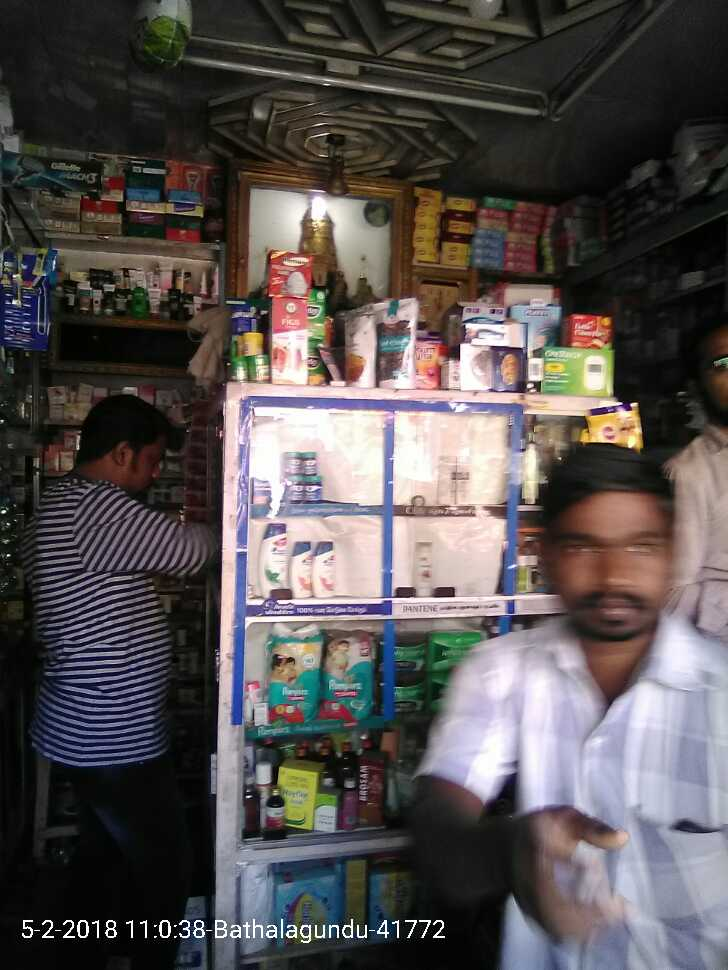vicks: (272, 448, 330, 509)
